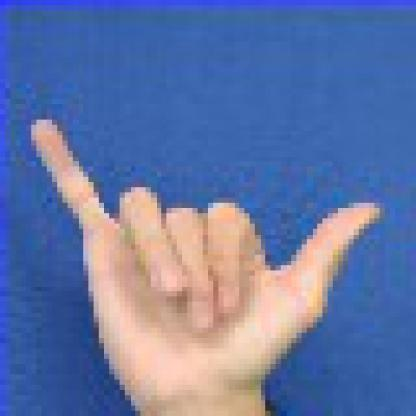six: (20, 97, 398, 416)
